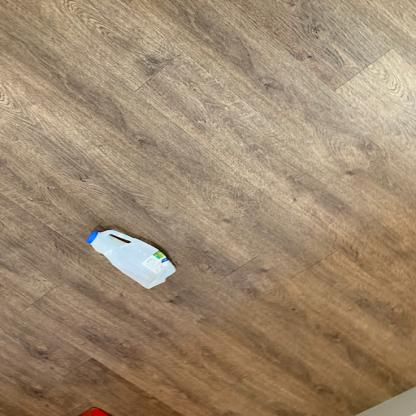trash: (87, 226, 179, 291)
